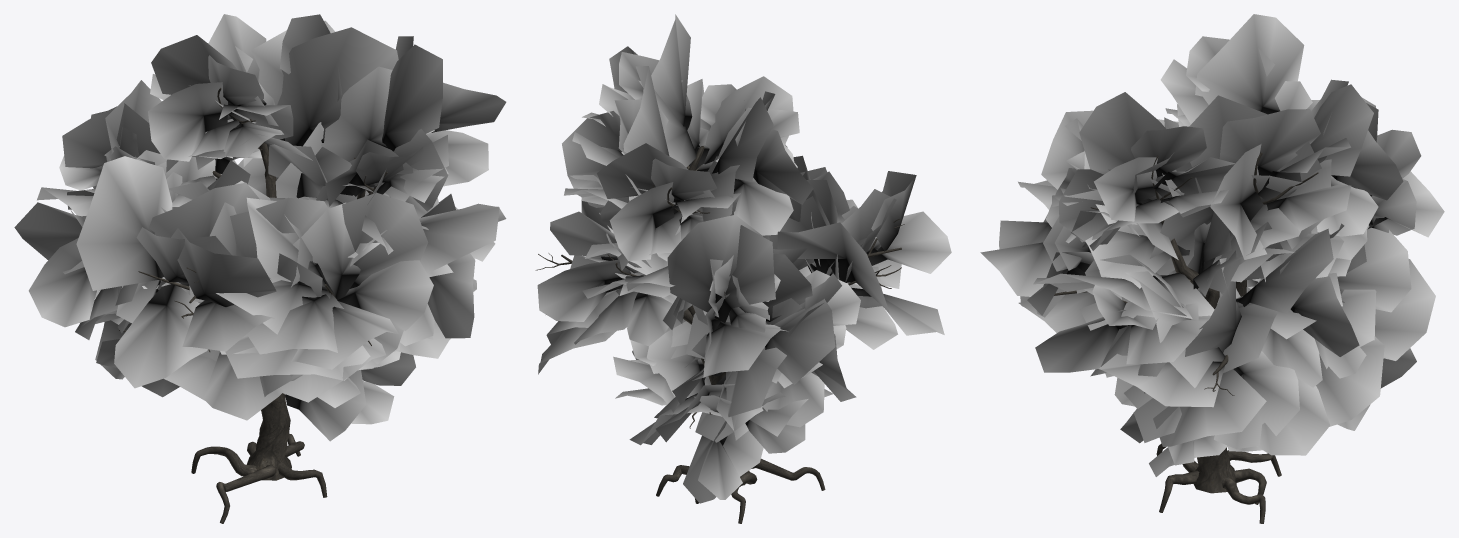
File: tree1_afsTREE.fbx
3 renders of one model, left to right at view 1: azimuth 30°, elevation 25°; view 2: azimuth 150°, elevation 25°; view 3: azimuth 270°, elevation 25°, orthographic. The views are drawn at different scales.
Visible parts, largest first — view 1: leaf_xt15_121, leaf_xt15_15, leaf_xt15_124, trunk_1_xmw02, leaf_xt15_56, leaf_xt15_103, leaf_xt15_27, leaf_xt15_100, leaf_xt15_110, leaf_xt15_85, leaf_xt15_149, leaf_xt15_42 (+52 smaller); view 2: leaf_xt15_134, leaf_xt15_121, leaf_xt15_74, leaf_xt15_144, leaf_xt15_13, leaf_xt15_132, leaf_xt15_112, leaf_xt15_56, leaf_xt15_135, leaf_xt15_8, leaf_xt15_76, leaf_xt15_20 (+51 smaller); view 3: leaf_xt15_22, leaf_xt15_19, leaf_xt15_56, trunk_1_xmw02, leaf_xt15_131, leaf_xt15_129, leaf_xt15_151, leaf_xt15_8, leaf_xt15_69, leaf_xt15_167, leaf_xt15_127, leaf_xt15_20 (+54 smaller).
Part boxes in pixels (<box>): leaf_xt15_121: <box>76,156,172,290</box>; leaf_xt15_15: <box>277,27,398,146</box>; leaf_xt15_124: <box>114,284,207,388</box>; trunk_1_xmw02: <box>191,157,365,523</box>; leaf_xt15_56: <box>382,44,442,151</box>; leaf_xt15_103: <box>342,192,428,288</box>; leaf_xt15_27: <box>148,82,227,161</box>; leaf_xt15_100: <box>337,260,433,330</box>; leaf_xt15_110: <box>171,228,276,306</box>; leaf_xt15_85: <box>321,66,434,162</box>; leaf_xt15_149: <box>28,238,96,327</box>; leaf_xt15_42: <box>419,203,499,273</box>; leaf_xt15_134: <box>667,214,762,312</box>; leaf_xt15_121: <box>777,222,889,312</box>; leaf_xt15_74: <box>537,259,630,321</box>; leaf_xt15_144: <box>765,298,835,384</box>; leaf_xt15_13: <box>609,182,674,260</box>; leaf_xt15_132: <box>714,225,775,322</box>; leaf_xt15_112: <box>866,211,951,273</box>; leaf_xt15_56: <box>643,14,692,129</box>; leaf_xt15_135: <box>703,321,788,377</box>; leaf_xt15_8: <box>597,143,714,213</box>; leaf_xt15_76: <box>703,76,793,164</box>; leaf_xt15_20: <box>562,111,621,188</box>; leaf_xt15_22: <box>1195,14,1304,114</box>; leaf_xt15_19: <box>1219,109,1320,175</box>; leaf_xt15_56: <box>1079,92,1201,204</box>; trunk_1_xmw02: <box>1156,220,1281,523</box>; leaf_xt15_131: <box>1153,369,1266,446</box>; leaf_xt15_129: <box>1214,351,1299,449</box>; leaf_xt15_151: <box>1337,227,1411,312</box>; leaf_xt15_8: <box>1310,84,1373,176</box>; leaf_xt15_69: <box>1238,228,1333,313</box>; leaf_xt15_167: <box>1316,336,1384,426</box>; leaf_xt15_127: <box>1099,353,1224,407</box>; leaf_xt15_20: <box>1210,144,1266,259</box>.
Size of the model in its own units: 2135 by 2337 by 2148.
